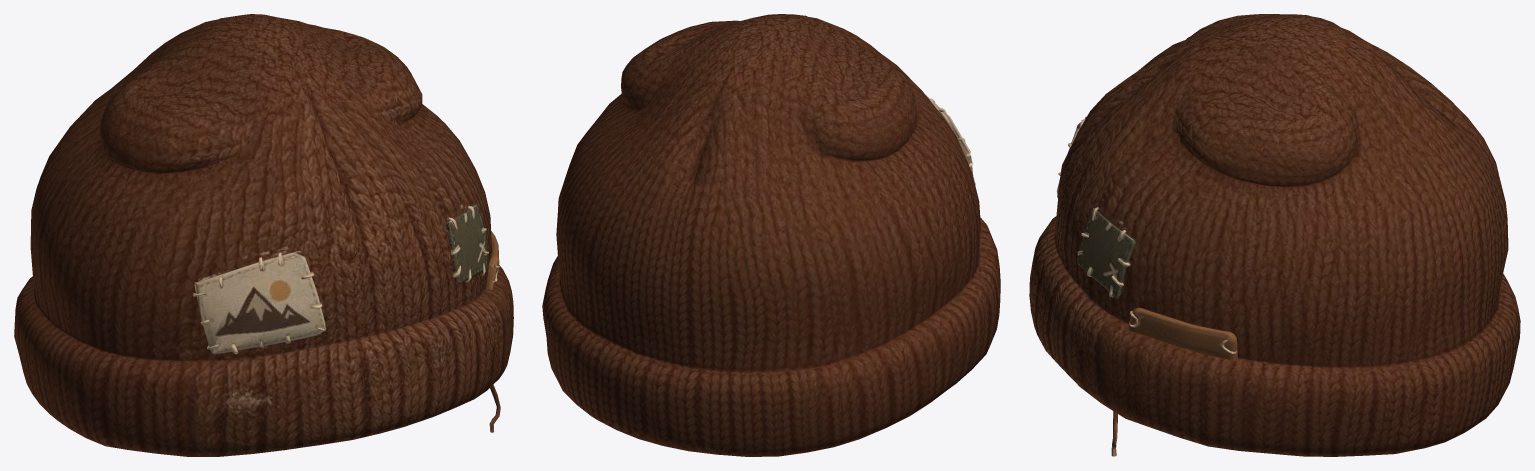
The model's file is hat_vagabond.glb.
The picture shows the model from 3 angles, left to right: view 1: azimuth 30°, elevation 25°; view 2: azimuth 150°, elevation 25°; view 3: azimuth 270°, elevation 25°; orthographic projection. The views are drawn at different scales.
Size of the model in its own units: 0.9175 by 0.7744 by 0.9497.
1 material, 1 textured.
